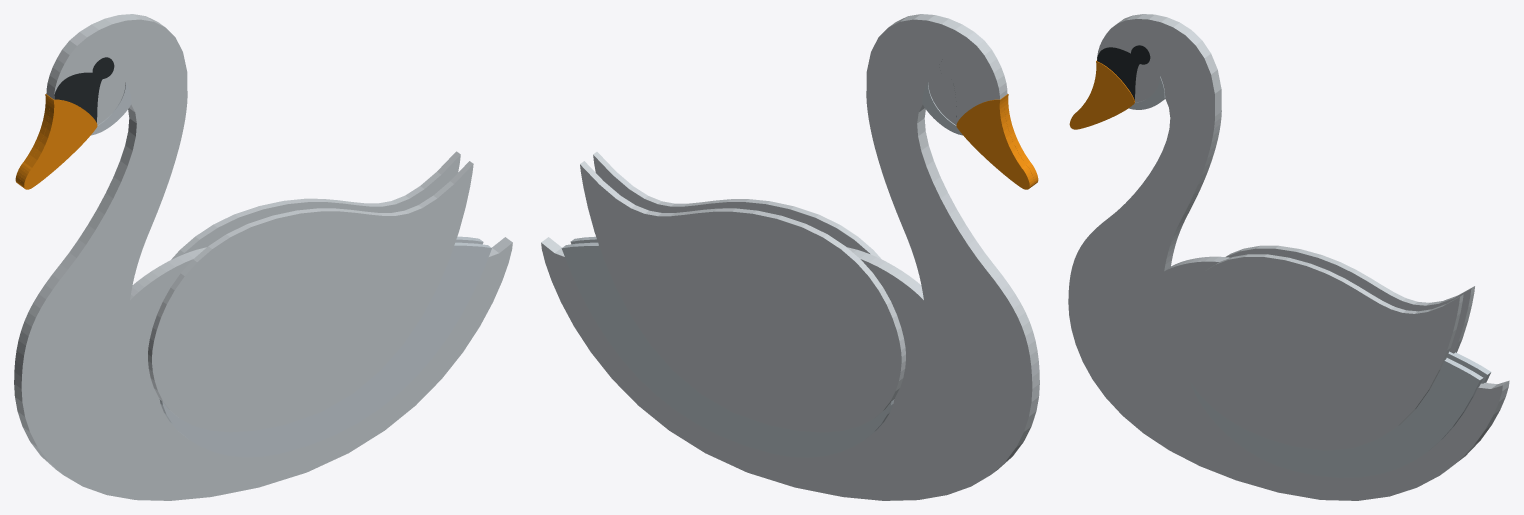
The model's file is swan.1693869890100.glb.
3 views of the same model, side by side, from view 1: azimuth 30°, elevation 25°; view 2: azimuth 150°, elevation 25°; view 3: azimuth 330°, elevation 25° (orthographic). The views are drawn at different scales.
Parts seen in each view (by area): view 1: swan; view 2: swan; view 3: swan.
Part boxes in pixels (<box>): swan: <box>14,14,512,500</box>; swan: <box>541,14,1039,500</box>; swan: <box>1068,14,1509,500</box>.
Bounding box in the file's own units: 0.225 × 0.2186 × 0.0137.
